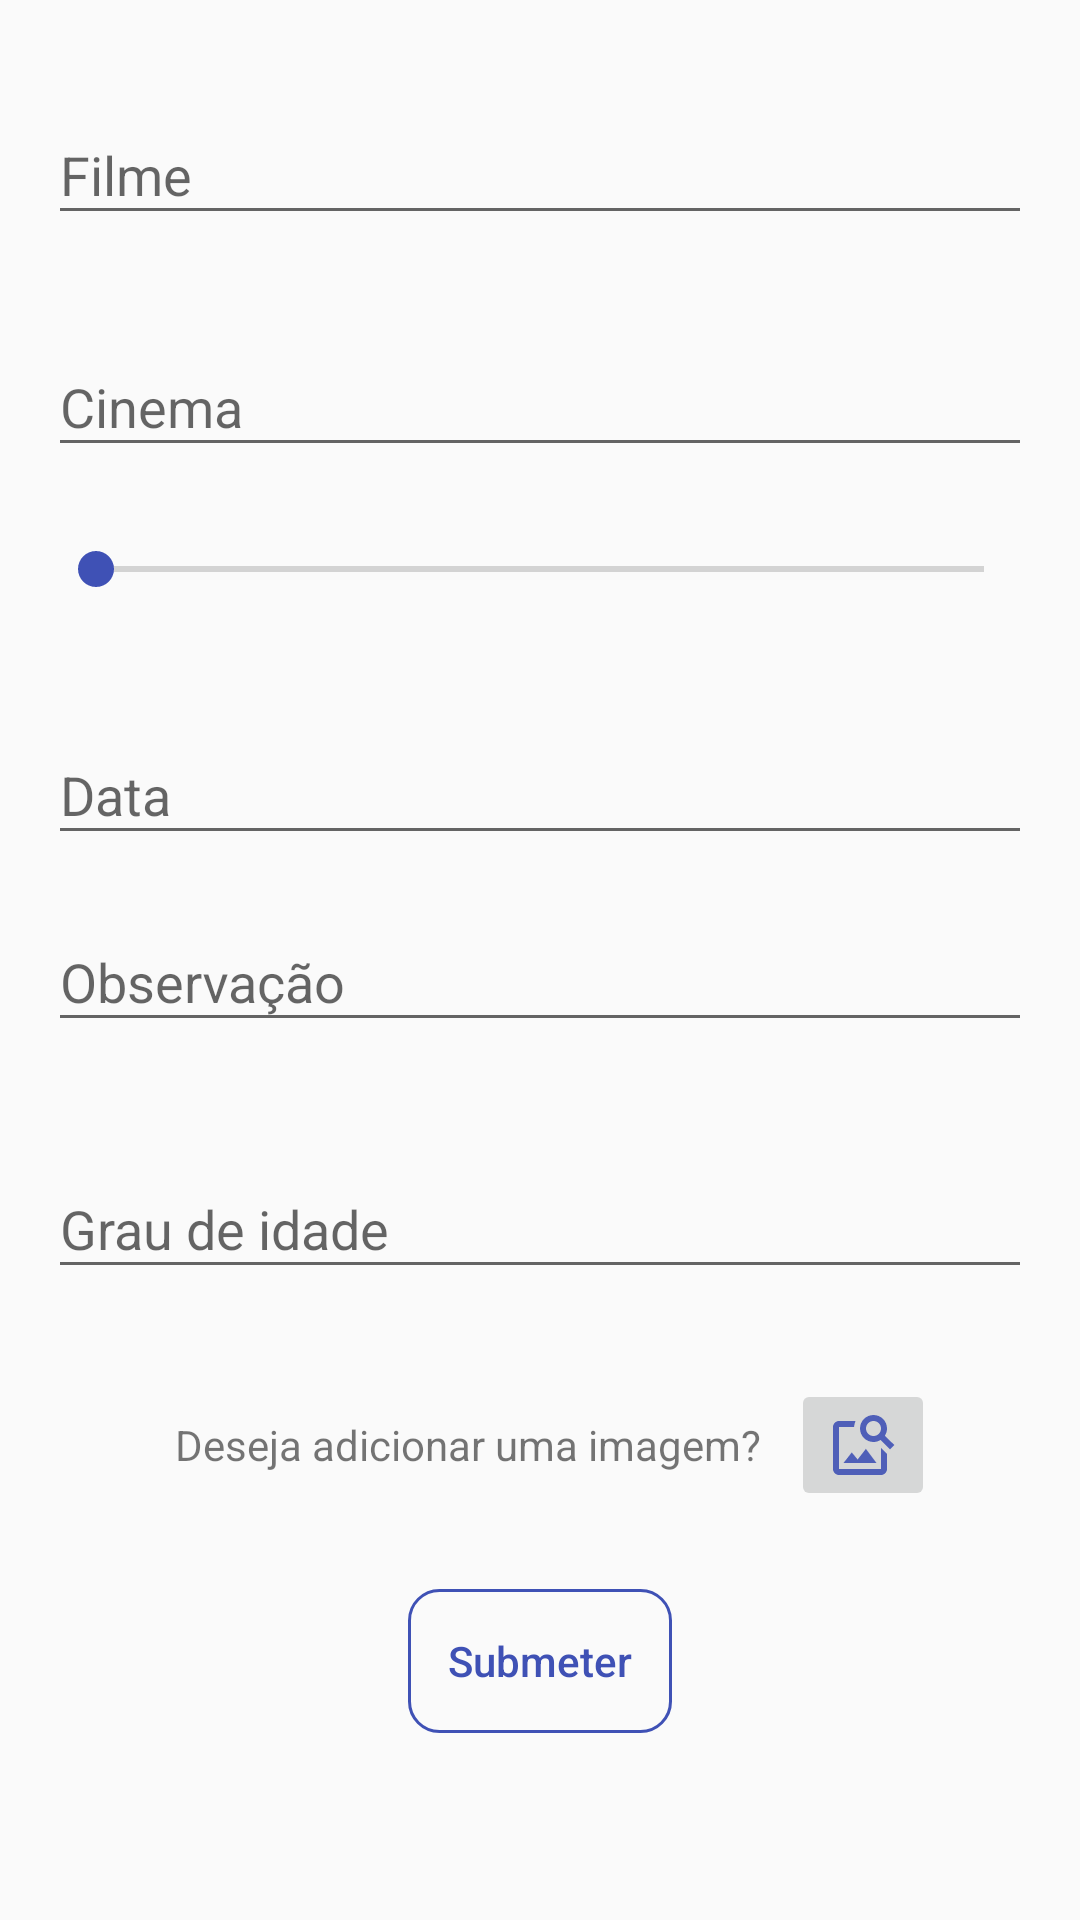

Screen size 1080px×1920px. Icon name, then its box in pixels as bbox(x1, y1, x2, y2):
search: bbox(803, 1397, 923, 1493)
